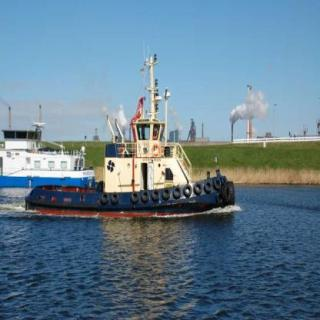Tug Boat: (13, 44, 244, 215)
